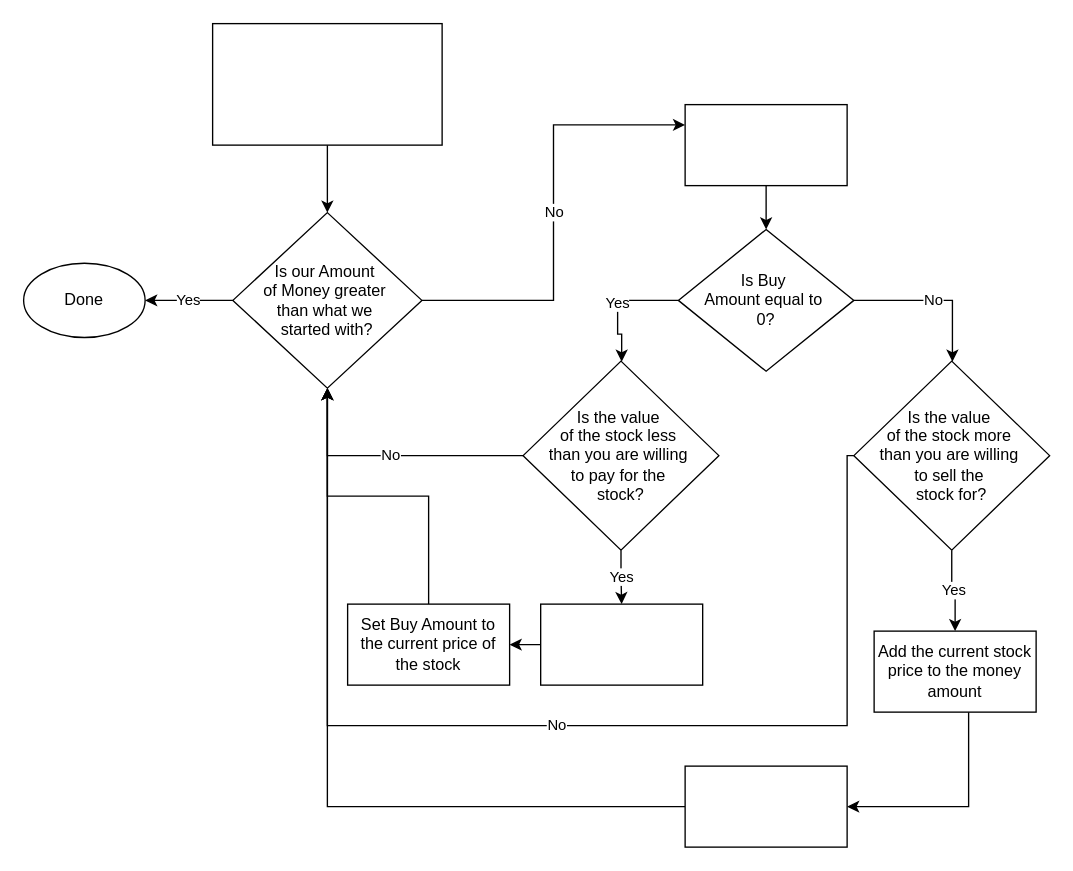
Some shapes in this 1073 by 871 pixel diagram are drawn without their labels. The shapes that lost their labels are listed below. From the top down, each one's centre as x and y in pixels, then its label:
the point at 326,83: Base variables are set. Amount of Money is 60 Buy Amount is 0 Sell Amount is 0
the point at 765,144: Get Current Stock Value from the function
the point at 621,644: Subtract the current cost of the stock from the money amount
the point at 765,806: Set Sell Amount to the current price of the stock
